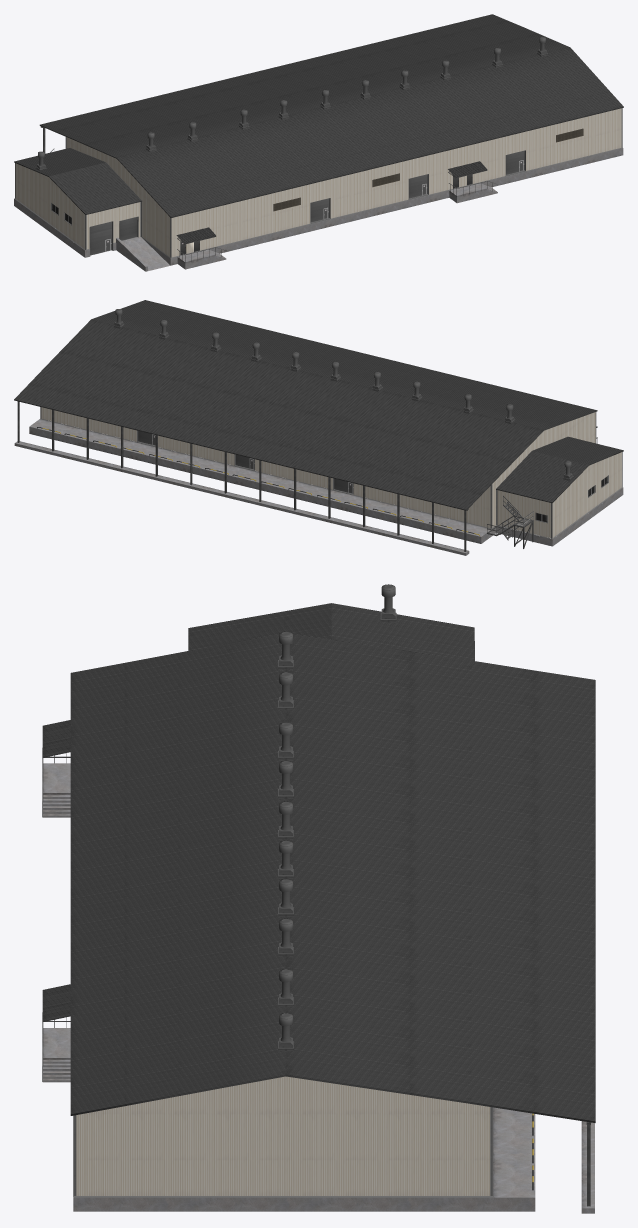
File: plant-building44.glb
The picture shows the model from 3 angles, top to bottom: view 1: azimuth 30°, elevation 25°; view 2: azimuth 150°, elevation 25°; view 3: azimuth 270°, elevation 25°; orthographic projection. The views are drawn at different scales.
Parts seen in each view (by area): view 1: Object8935781; view 2: Object8935781; view 3: Object8935781.
Boxes of the visible parts, <box> form: Object8935781: <box>14,14,623,271</box>; Object8935781: <box>14,300,623,555</box>; Object8935781: <box>42,584,595,1213</box>.
Size of the model in its own units: 91.27 by 14.74 by 42.93.
Materials: 1 (1 with a texture image).
